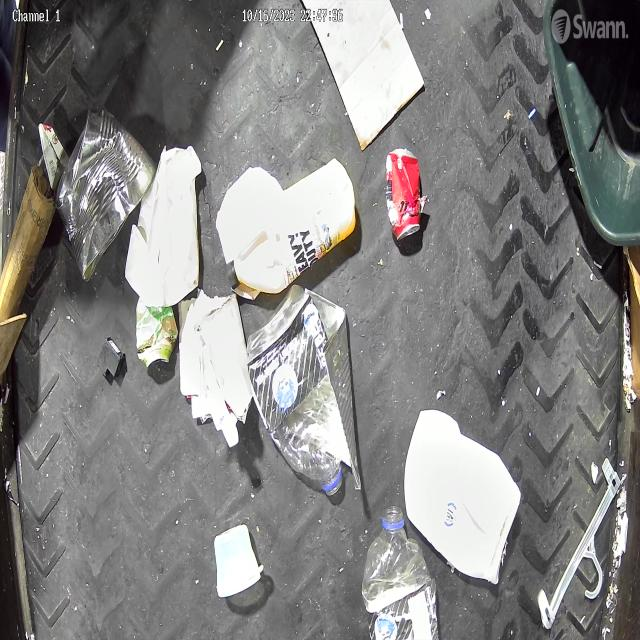can: (56, 107, 158, 282), (386, 148, 422, 240), (136, 302, 178, 368)
milk_jug: (404, 412, 522, 585)
non_white_jug: (227, 158, 356, 294)
plastic_bottle: (246, 284, 343, 496), (361, 506, 433, 638)
